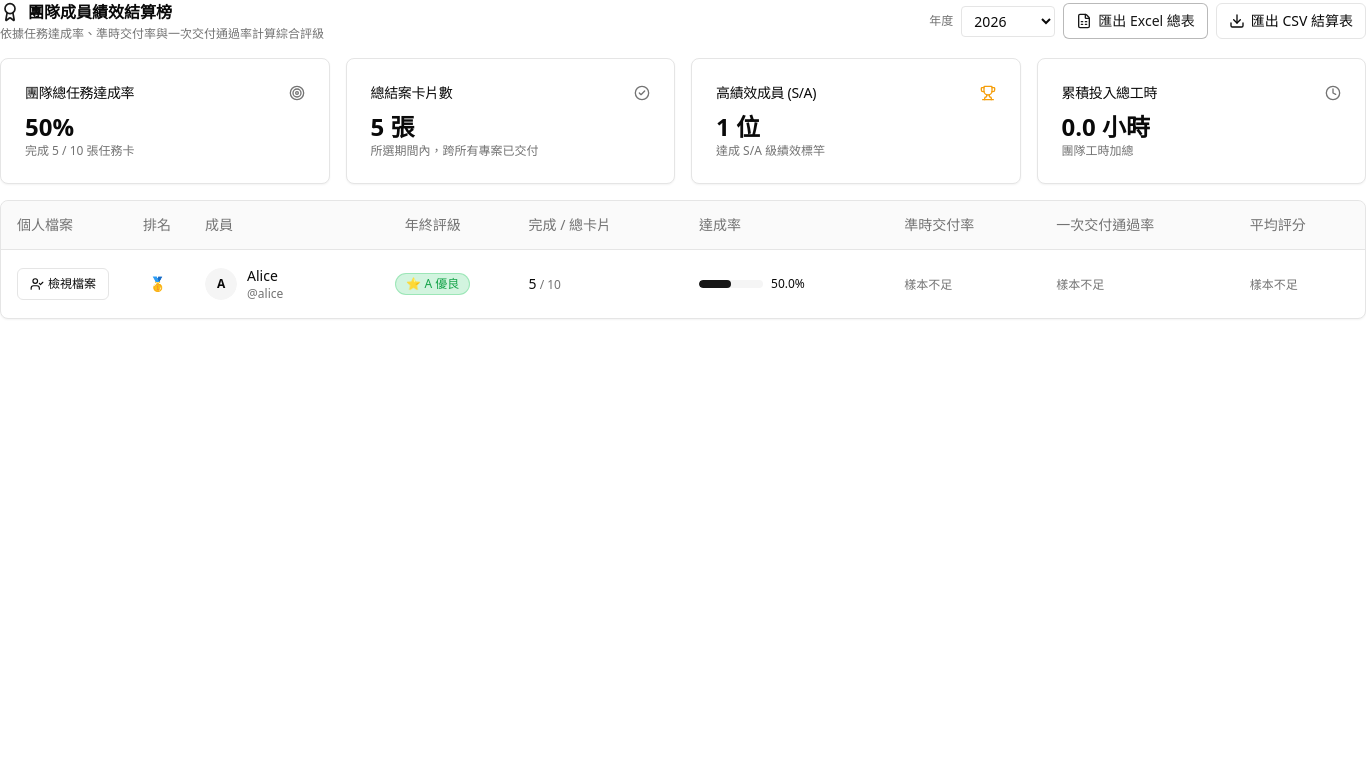
Test case: TeamReportTab dossier › 舊回應沒有 ratingBreakdown 時不渲染解釋區塊，也不 crash
Click the button "檢視檔案" at (63, 284), box [17, 268, 109, 300]
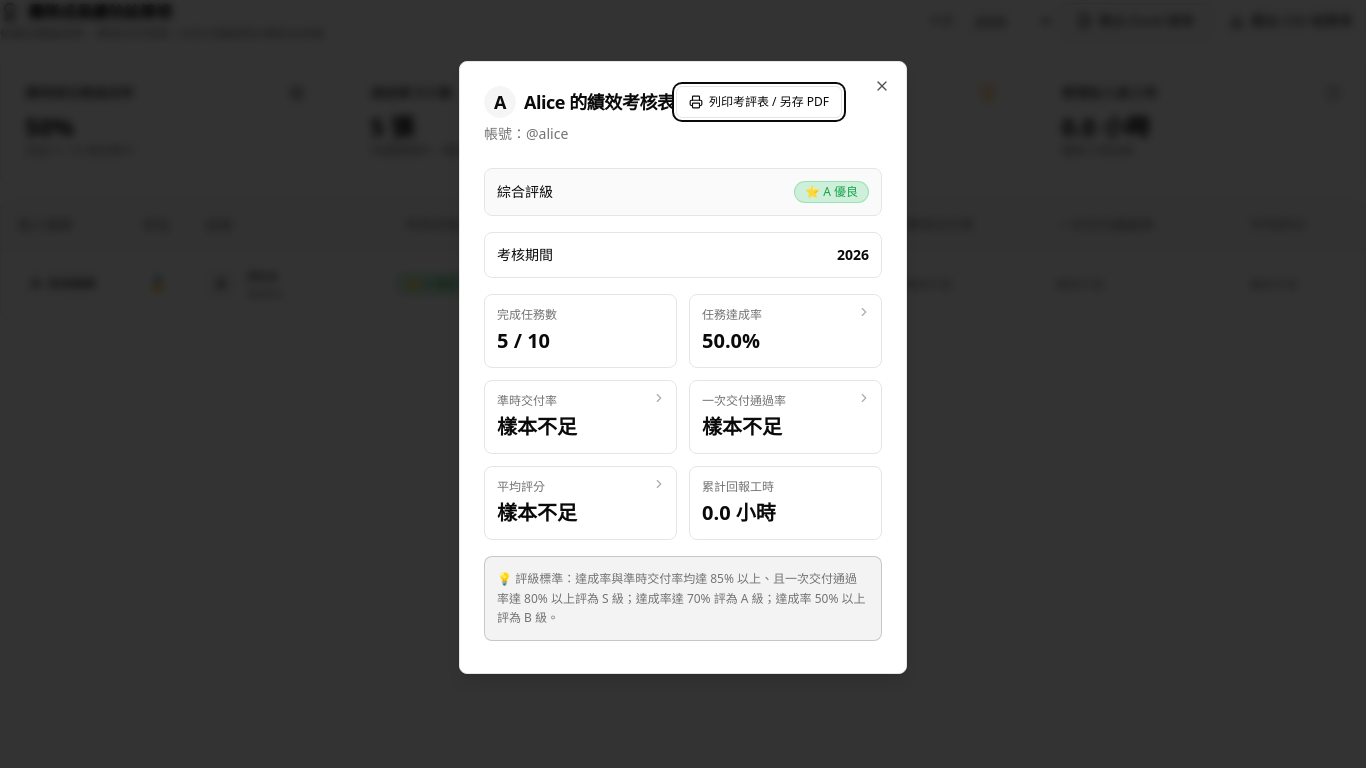
Expected: the text "綜合評級" is shown, [497, 182, 553, 202]
